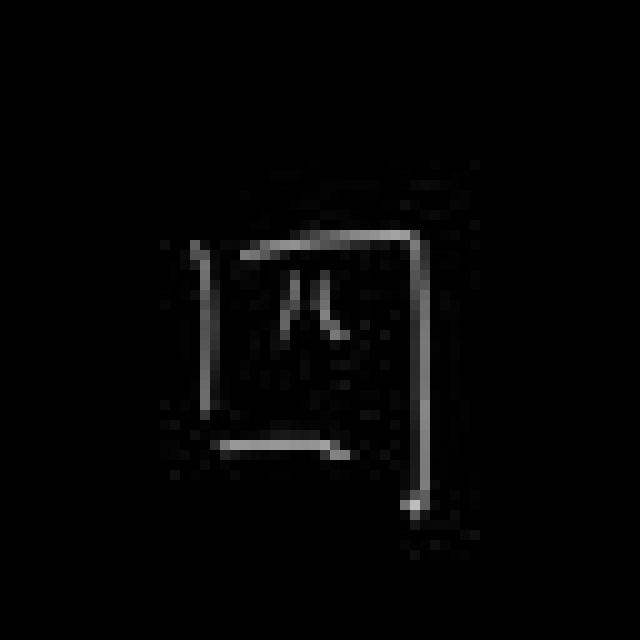4 -four-: (173, 216, 445, 533)
